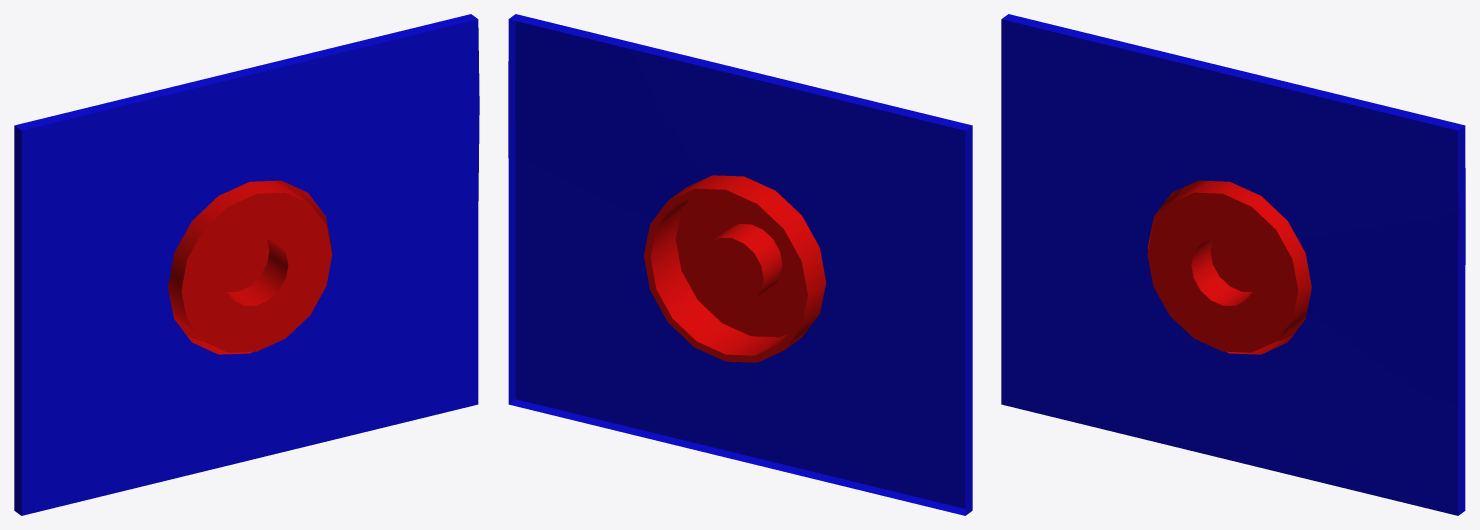
The model's file is Power Socket.fbx.
3 renders of one model, left to right at view 1: azimuth 30°, elevation 25°; view 2: azimuth 150°, elevation 25°; view 3: azimuth 330°, elevation 25°, orthographic.
Visible parts, largest first — view 1: Cylinder.002; view 2: Cylinder.002; view 3: Cylinder.002.
Part boxes in pixels (<box>): Cylinder.002: <box>14,14,479,515</box>; Cylinder.002: <box>508,14,972,515</box>; Cylinder.002: <box>1001,14,1465,515</box>.
Size of the model in its own units: 60.65 by 48.8 by 5.77.
